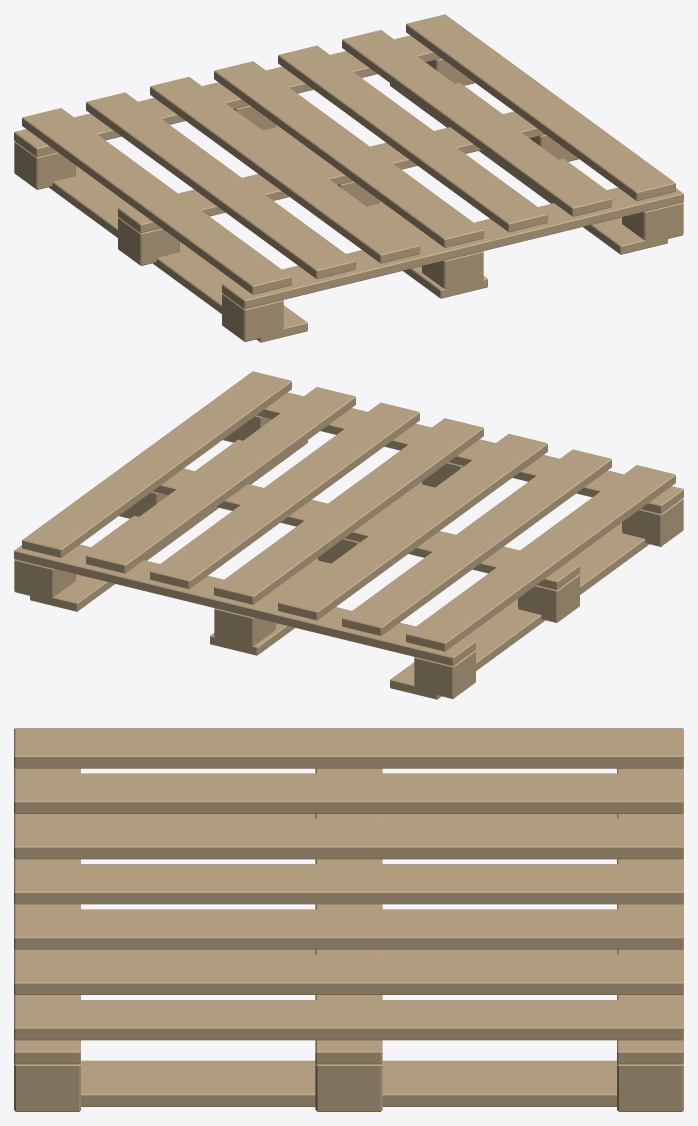
The model's file is pallet.fbx.
3 views of the same model, one above another, from view 1: azimuth 30°, elevation 25°; view 2: azimuth 150°, elevation 25°; view 3: azimuth 270°, elevation 25° (orthographic). The views are drawn at different scales.
Parts seen in each view (by area): view 1: Pallet; view 2: Pallet; view 3: Pallet.
Boxes of the visible parts, <box> form: Pallet: <box>14,14,683,342</box>; Pallet: <box>14,371,683,699</box>; Pallet: <box>14,728,683,1111</box>.
Size of the model in its own units: 1.1 by 0.141 by 1.
